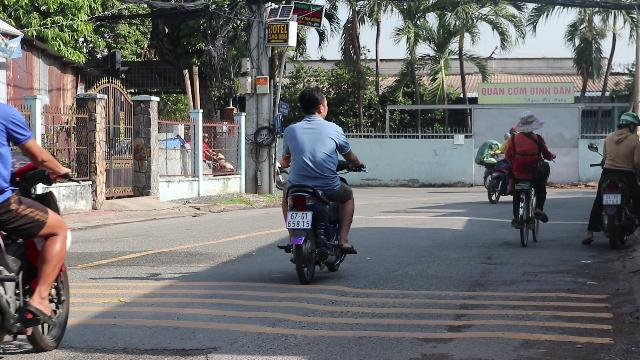helmet: (615, 111, 639, 133)
licenseplate: (286, 212, 312, 228), (604, 195, 620, 205)
motorcyclist: (272, 86, 362, 281), (586, 111, 640, 247)
nohelmet: (296, 86, 330, 120)
